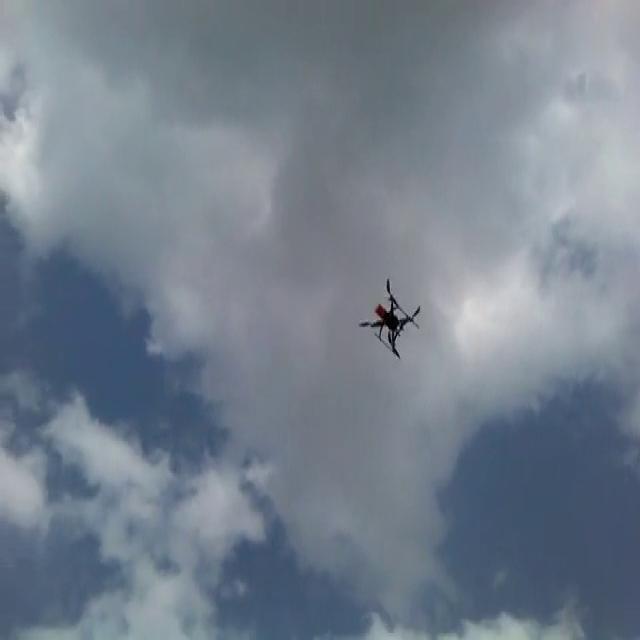drone: (357, 270, 420, 359)
